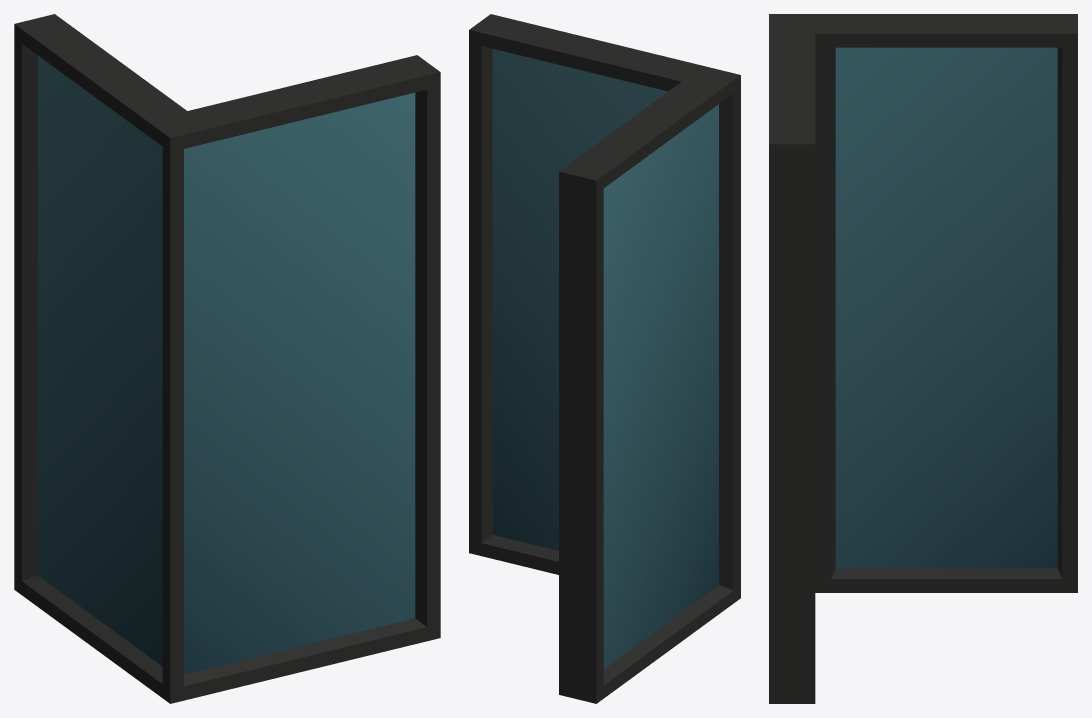
The model's file is tallWindowDarkCorner.fbx.
The picture shows the model from 3 angles, left to right: view 1: azimuth 30°, elevation 25°; view 2: azimuth 150°, elevation 25°; view 3: azimuth 270°, elevation 25°; orthographic projection. The views are drawn at different scales.
Visible parts, largest first — view 1: tallWindowDarkCorner; view 2: tallWindowDarkCorner; view 3: tallWindowDarkCorner.
Boxes of the visible parts, left/top/right/bottom form: tallWindowDarkCorner: left=14, top=14, right=440, bottom=703; tallWindowDarkCorner: left=469, top=14, right=740, bottom=703; tallWindowDarkCorner: left=769, top=14, right=1077, bottom=703.
Size of the model in its own units: 200 by 400 by 200.
1 material, 1 textured.
